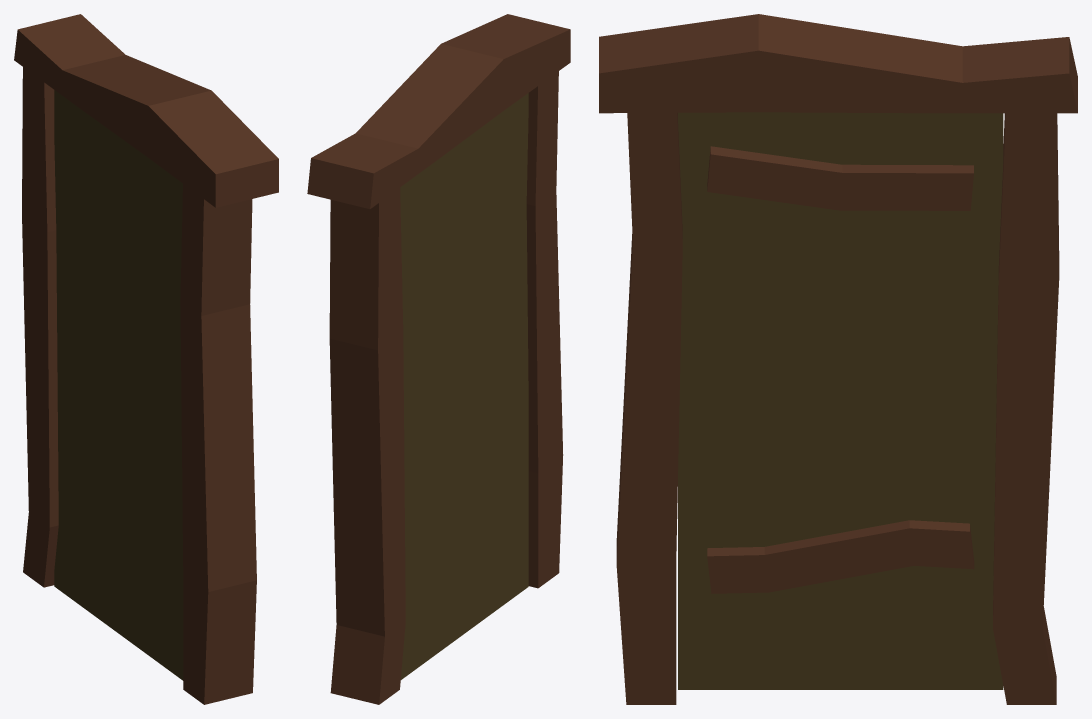
Rendered from StiltDoor_01.fbx.
The picture shows the model from 3 angles, left to right: view 1: azimuth 30°, elevation 25°; view 2: azimuth 150°, elevation 25°; view 3: azimuth 270°, elevation 25°; orthographic projection. The views are drawn at different scales.
Visible parts, largest first — view 1: Door_1; view 2: Door_1; view 3: Door_1.
Part boxes in pixels (x1,y1,x2,y2): Door_1: [14, 14, 278, 704]; Door_1: [307, 14, 570, 704]; Door_1: [599, 14, 1077, 704].
Bounding box in the file's own units: 14.22 × 120 × 78.52.
